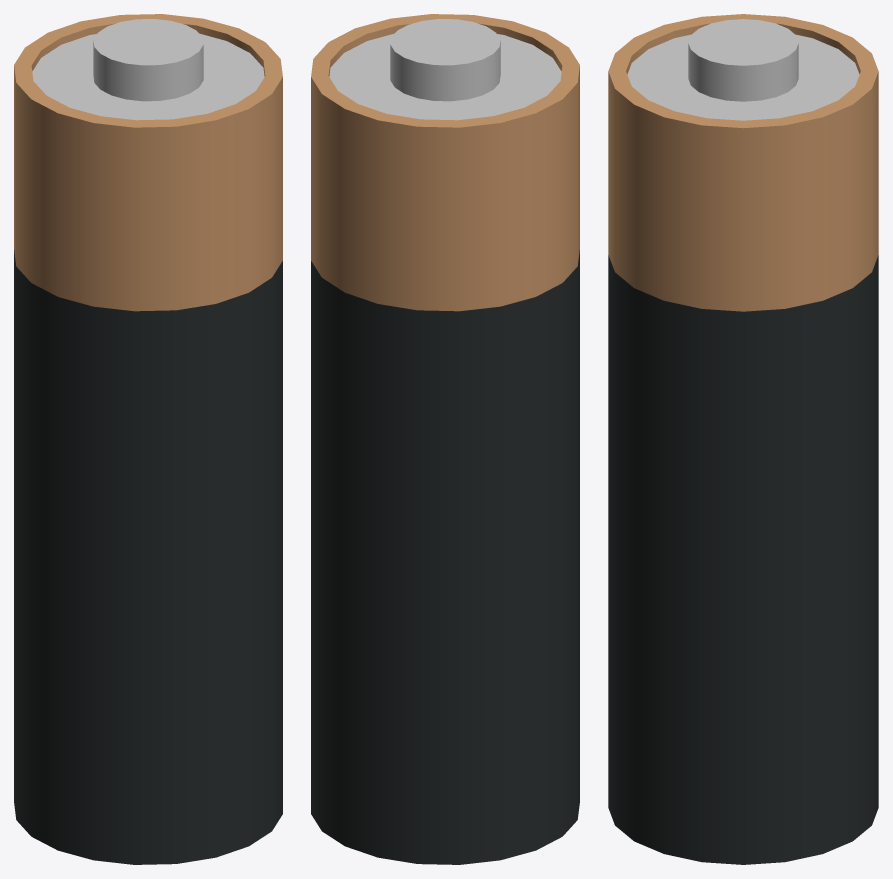
File: Battery.fbx
3 views of the same model, side by side, from view 1: azimuth 30°, elevation 25°; view 2: azimuth 150°, elevation 25°; view 3: azimuth 270°, elevation 25° (orthographic).
Parts seen in each view (by area): view 1: Battery; view 2: Battery; view 3: Battery.
Boxes of the visible parts, x1,y1,x2,y2 form: Battery: (14, 14, 282, 864); Battery: (311, 14, 579, 864); Battery: (608, 14, 878, 864).
Size of the model in its own units: 3.06 by 9.58 by 3.06.
